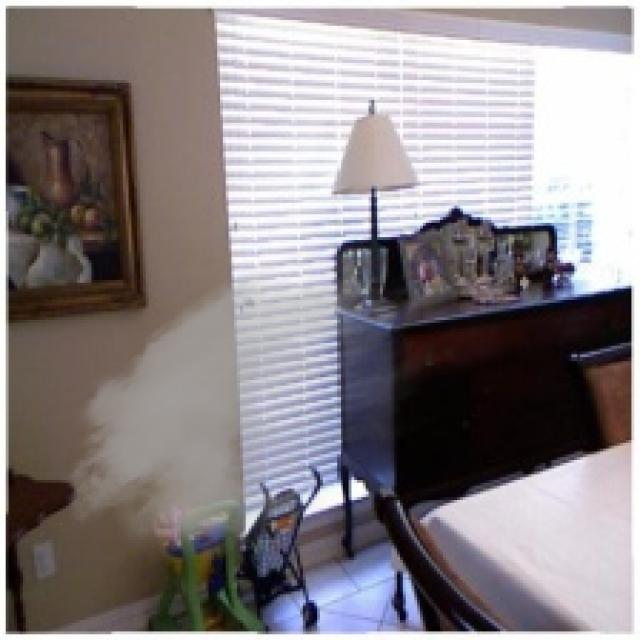smoke: (54, 232, 454, 577)
